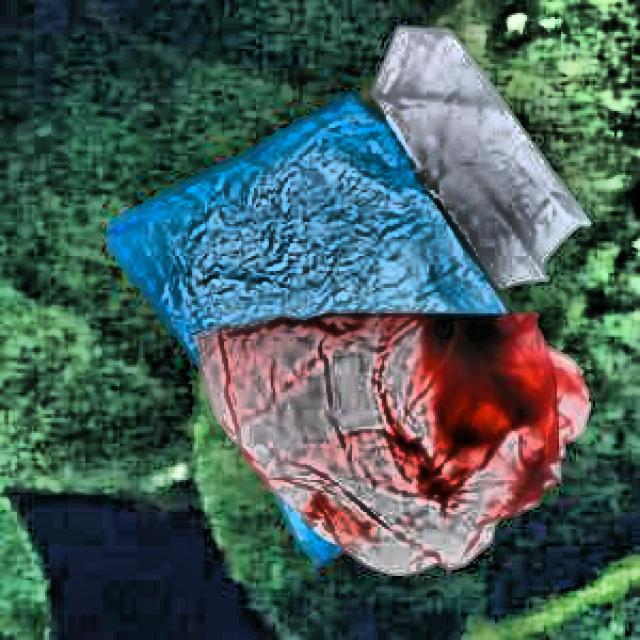Plastic: (102, 89, 559, 571), (169, 297, 598, 583), (359, 6, 584, 305)
